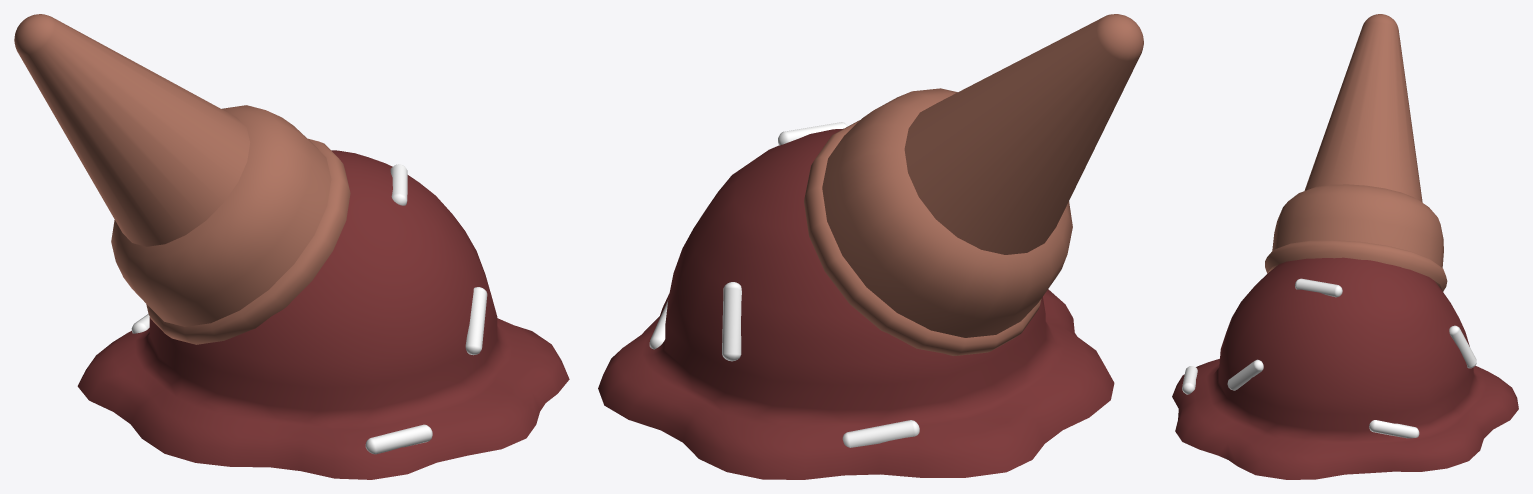
The model's file is SM_Icecream_Cone_red.fbx.
The picture shows the model from 3 angles, left to right: view 1: azimuth 30°, elevation 25°; view 2: azimuth 150°, elevation 25°; view 3: azimuth 270°, elevation 25°; orthographic projection. The views are drawn at different scales.
Parts seen in each view (by area): view 1: SM_Icecream_Cone_red; view 2: SM_Icecream_Cone_red; view 3: SM_Icecream_Cone_red.
Part boxes in pixels (bbox=[...]): SM_Icecream_Cone_red: bbox=[14, 14, 569, 479]; SM_Icecream_Cone_red: bbox=[598, 14, 1143, 479]; SM_Icecream_Cone_red: bbox=[1172, 14, 1518, 479].
Bounding box in the file's own units: 510 × 415 × 435.
1 material, 1 textured.
